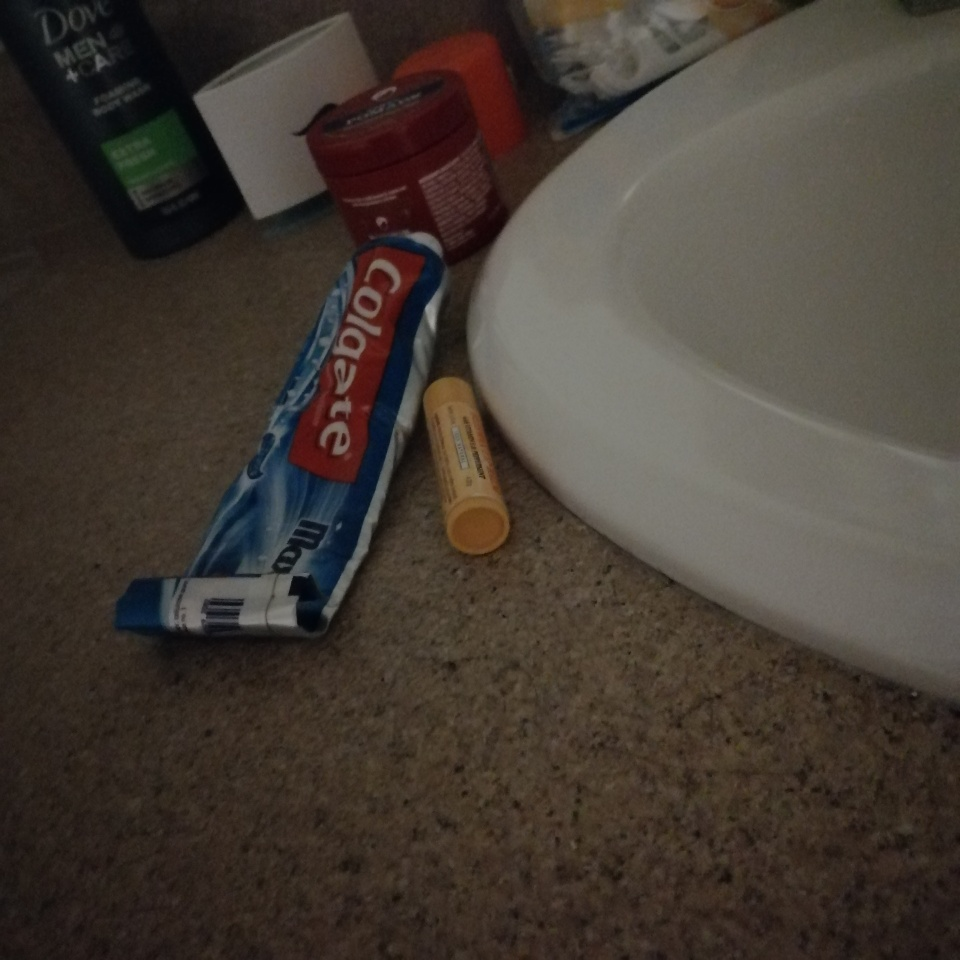chapstick: (422, 375, 511, 555)
